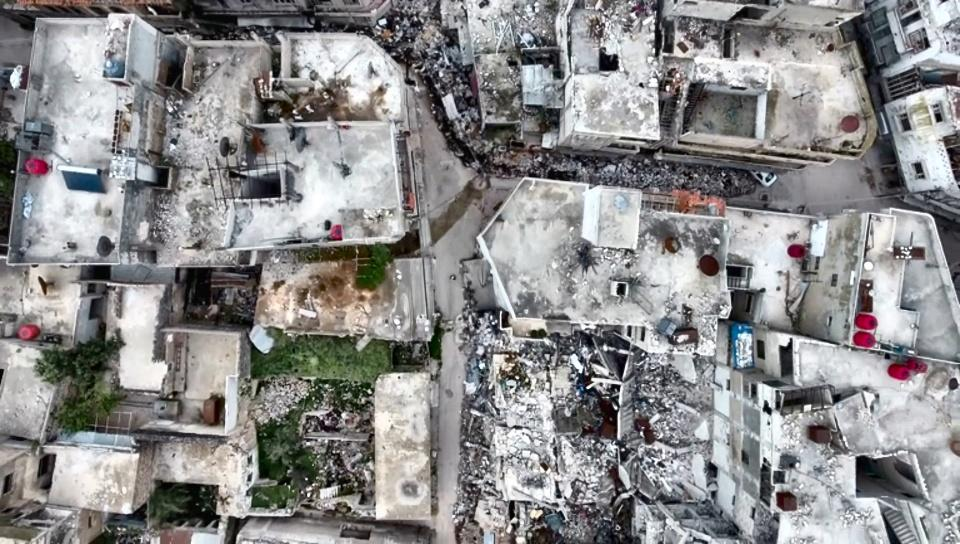kapali: (483, 142, 795, 213), (432, 242, 493, 543), (407, 0, 482, 211)
